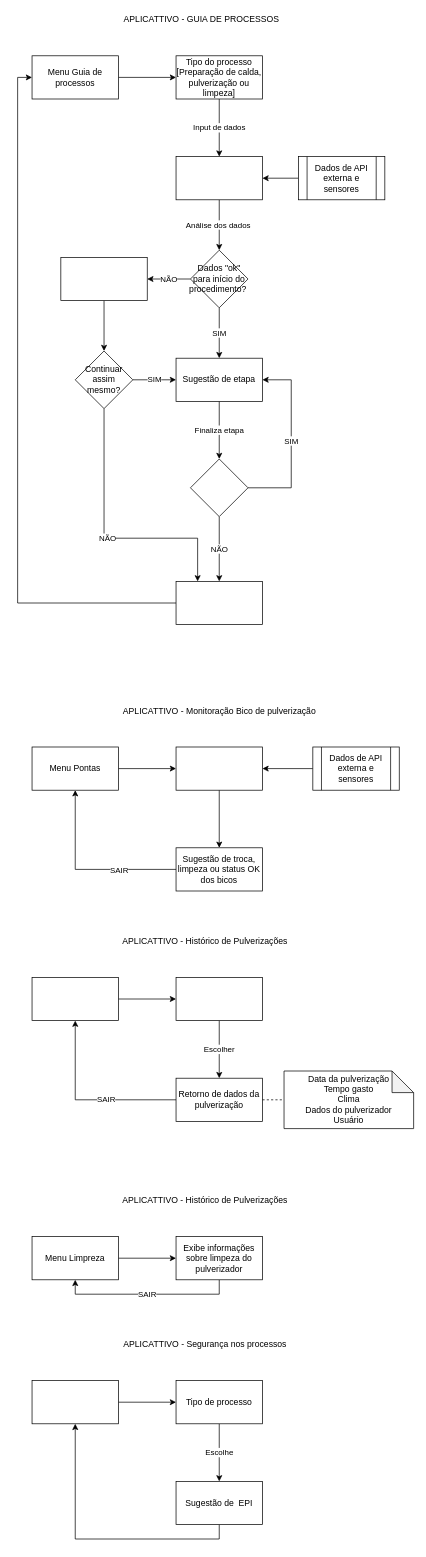
This 426x1557 diagram has some shape labels left out. Here are the shapes that lost their labels. From the top down, the centre of each, then its label:
At pixel 218 178: "Iniciar".
At pixel 103 279: "Mensagem negativa ao usuário sobre a analise dos dados".
At pixel 219 487: "Mais etapas?".
At pixel 218 603: "Finaliza processo".
At pixel 218 768: "Análise dos dados de vazão".
At pixel 74 999: "Menu Histórico".
At pixel 218 999: "Lista de pulverizações".
At pixel 74 1402: "Menu EPI".
